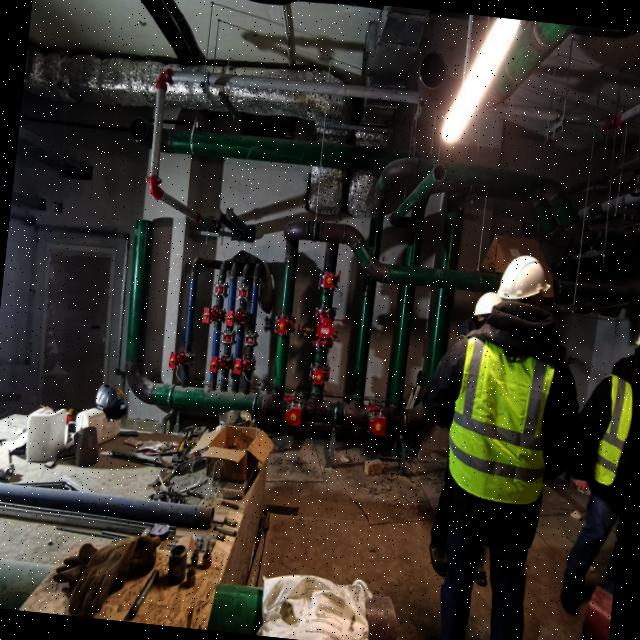Helmet: (495, 250, 555, 319), (473, 287, 502, 331)
